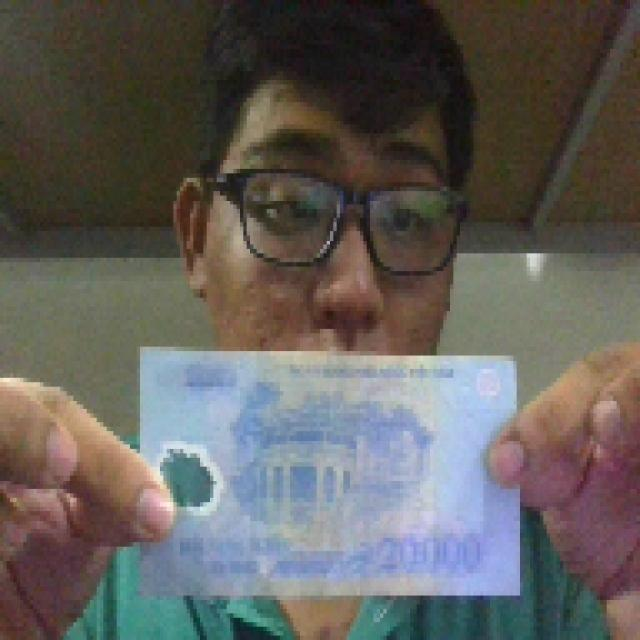20 000 VND: (130, 338, 527, 604)
